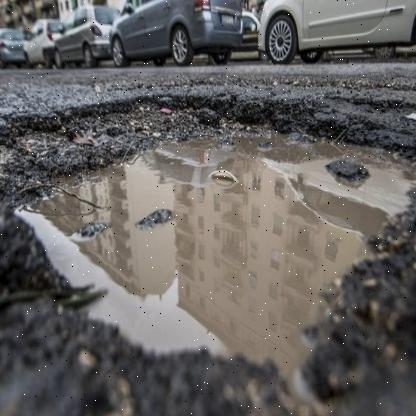pothole_water: (0, 81, 414, 406)
